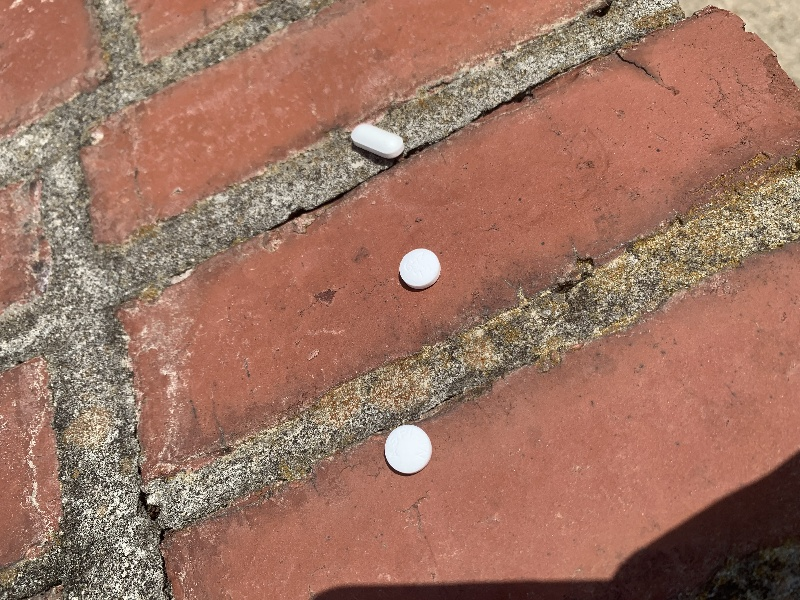Aspirin: (380, 422, 438, 478), (394, 242, 447, 295)
Tylenol: (341, 115, 416, 170)
